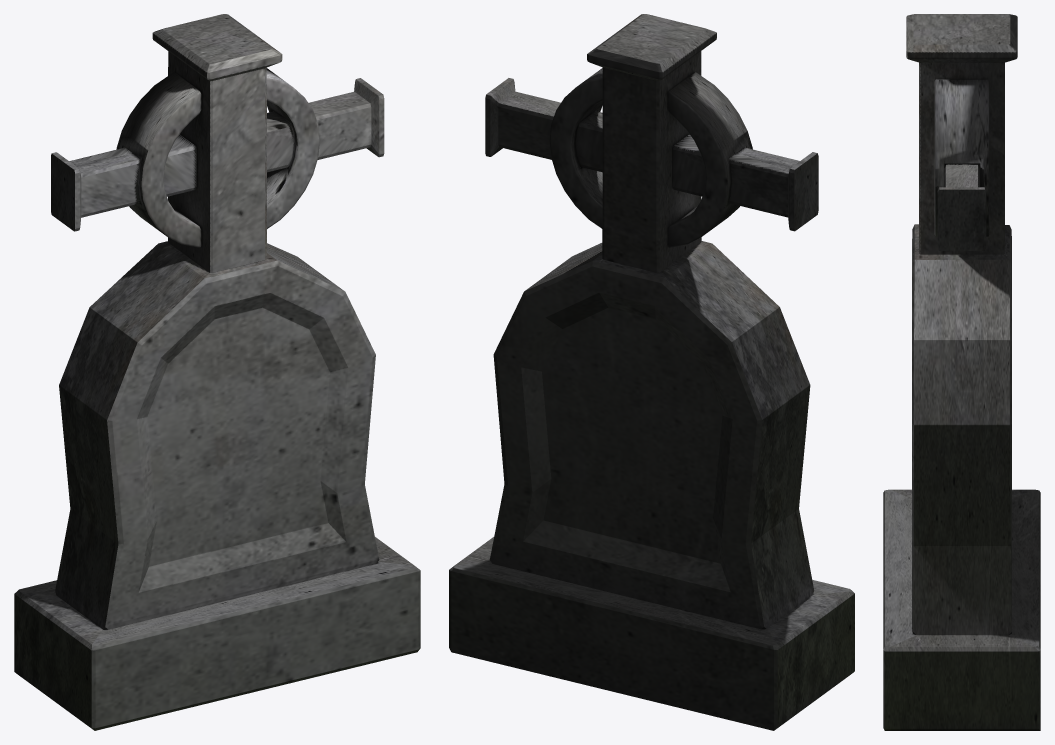
File: lapide01.fbx
3 views of the same model, side by side, from view 1: azimuth 30°, elevation 25°; view 2: azimuth 150°, elevation 25°; view 3: azimuth 270°, elevation 25° (orthographic).
Visible parts, largest first — view 1: Cilindro; view 2: Cilindro; view 3: Cilindro.
Part boxes in pixels (x1,y1,x2,y2): Cilindro: [14, 14, 420, 730]; Cilindro: [449, 14, 854, 730]; Cilindro: [883, 14, 1040, 730].
Size of the model in its own units: 286 by 518 by 119.
